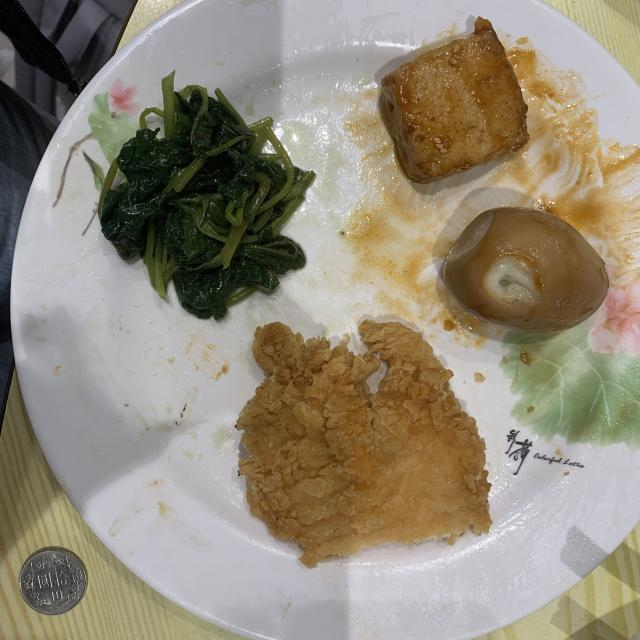coin: (19, 546, 88, 615)
creamy tofu: (379, 18, 529, 184)
fried chicken cutlet: (236, 320, 491, 568)
soy egg: (444, 208, 609, 332)
sweet potato leaves: (100, 72, 314, 320)
